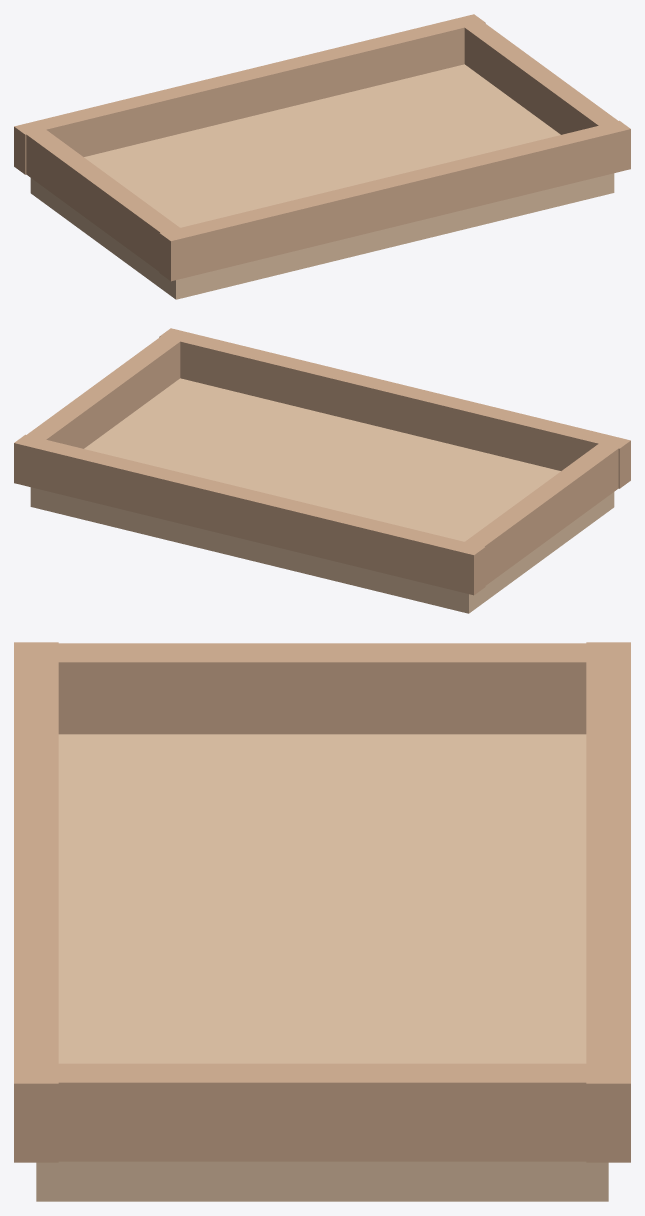
File: crafted-queue-0.glb
3 views of the same model, one above another, from view 1: azimuth 30°, elevation 25°; view 2: azimuth 150°, elevation 25°; view 3: azimuth 270°, elevation 25° (orthographic). The views are drawn at different scales.
Visible parts, largest first — view 1: tray-floor, tray-edge-1, tray-edge, tray-edge-2, tray-edge-3; view 2: tray-floor, tray-edge, tray-edge-1, tray-edge-2, tray-edge-3; view 3: tray-floor, tray-edge-3, tray-edge-2, tray-edge, tray-edge-1.
Part boxes in pixels (left/top/right/bottom): tray-floor: left=30, top=64, right=614, bottom=299; tray-edge-1: left=159, top=120, right=630, bottom=281; tray-edge: left=14, top=14, right=485, bottom=174; tray-edge-2: left=21, top=129, right=179, bottom=271; tray-edge-3: left=461, top=19, right=619, bottom=134; tray-floor: left=30, top=378, right=614, bottom=613; tray-edge: left=14, top=434, right=485, bottom=595; tray-edge-1: left=159, top=328, right=630, bottom=488; tray-edge-2: left=465, top=443, right=623, bottom=585; tray-edge-3: left=26, top=333, right=182, bottom=448; tray-floor: left=36, top=734, right=608, bottom=1201; tray-edge-3: left=37, top=1063, right=607, bottom=1161; tray-edge-2: left=36, top=643, right=608, bottom=734; tray-edge: left=586, top=642, right=630, bottom=1162; tray-edge-1: left=14, top=642, right=58, bottom=1162.
Size of the model in its own units: 0.42 by 0.057 by 0.248.
